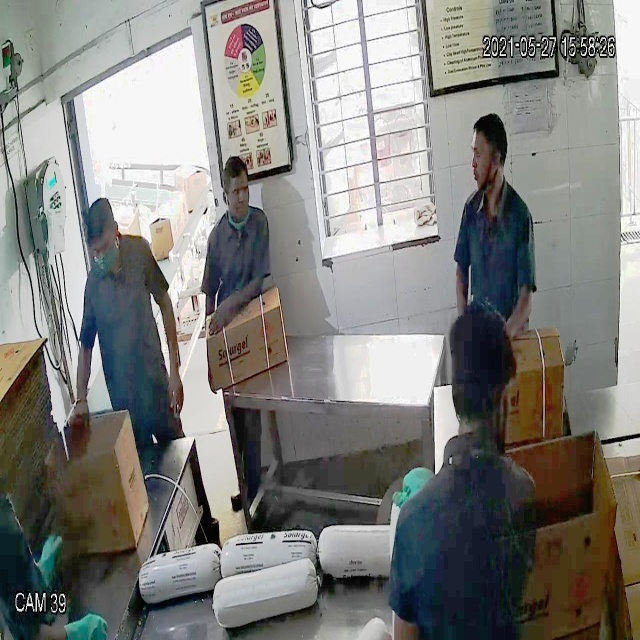Sin_gafas: (81, 231, 124, 260), (466, 138, 506, 169), (218, 179, 252, 204)
